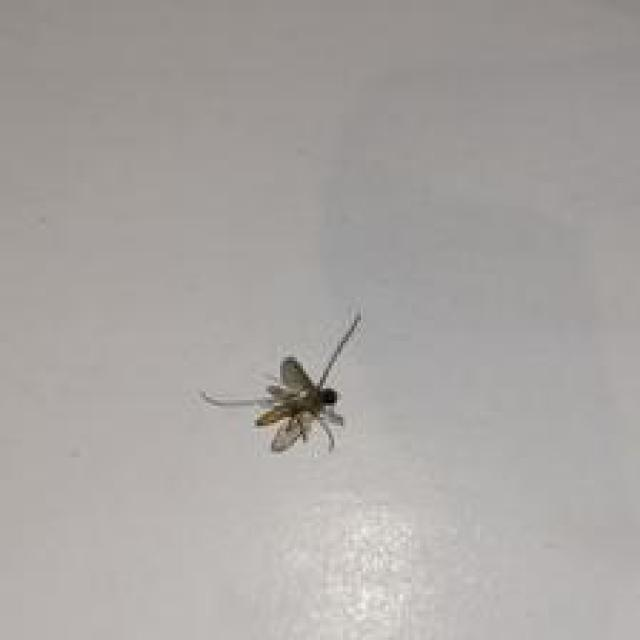Culex: (200, 307, 363, 456)
